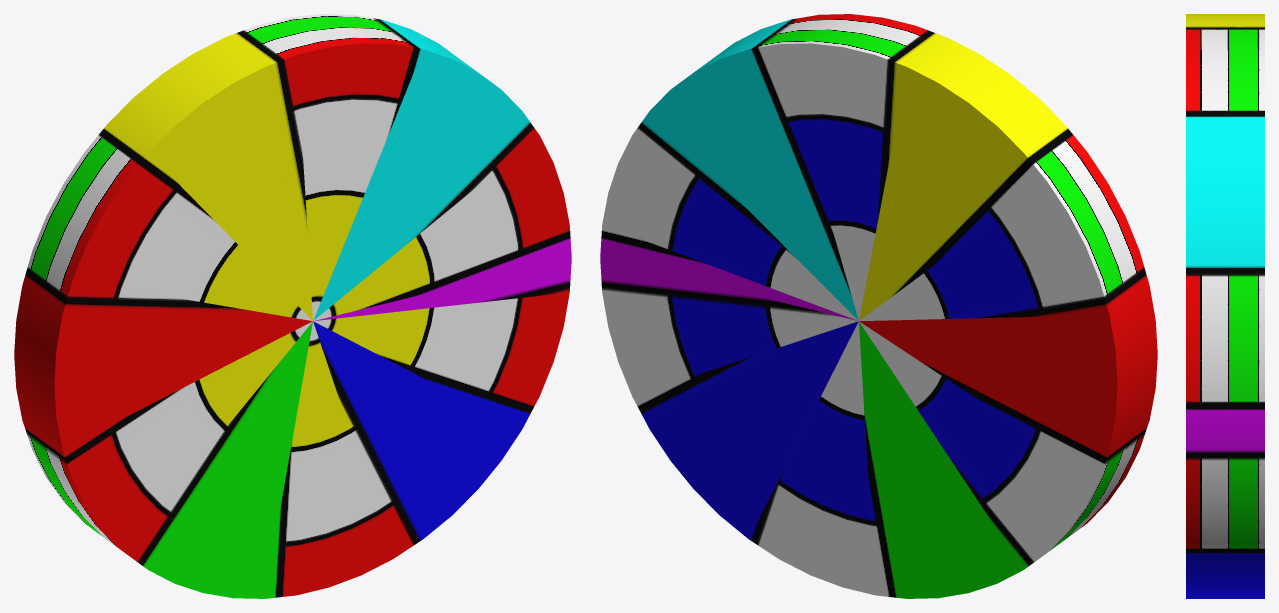
File: Normalblock.fbx
3 renders of one model, left to right at view 1: azimuth 30°, elevation 25°; view 2: azimuth 150°, elevation 25°; view 3: azimuth 270°, elevation 25°, orthographic. The views are drawn at different scales.
Visible parts, largest first — view 1: pPipe1; view 2: pPipe1; view 3: pPipe1.
Boxes of the visible parts, x1,y1,x2,y2 form: pPipe1: [14, 14, 571, 598]; pPipe1: [600, 14, 1157, 598]; pPipe1: [1186, 14, 1264, 598].
Size of the model in its own units: 13 by 12.97 by 1.75.
Materials: 1 (1 with a texture image).
